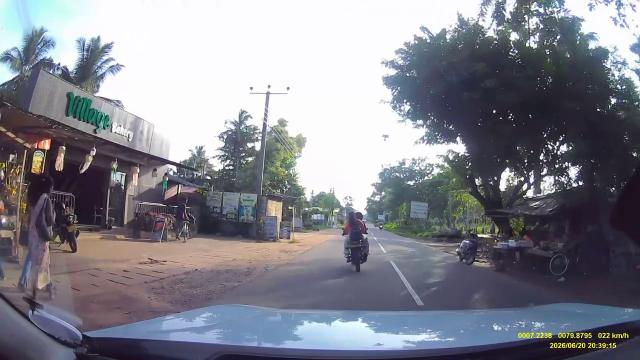no helmet: (348, 210, 355, 220)
